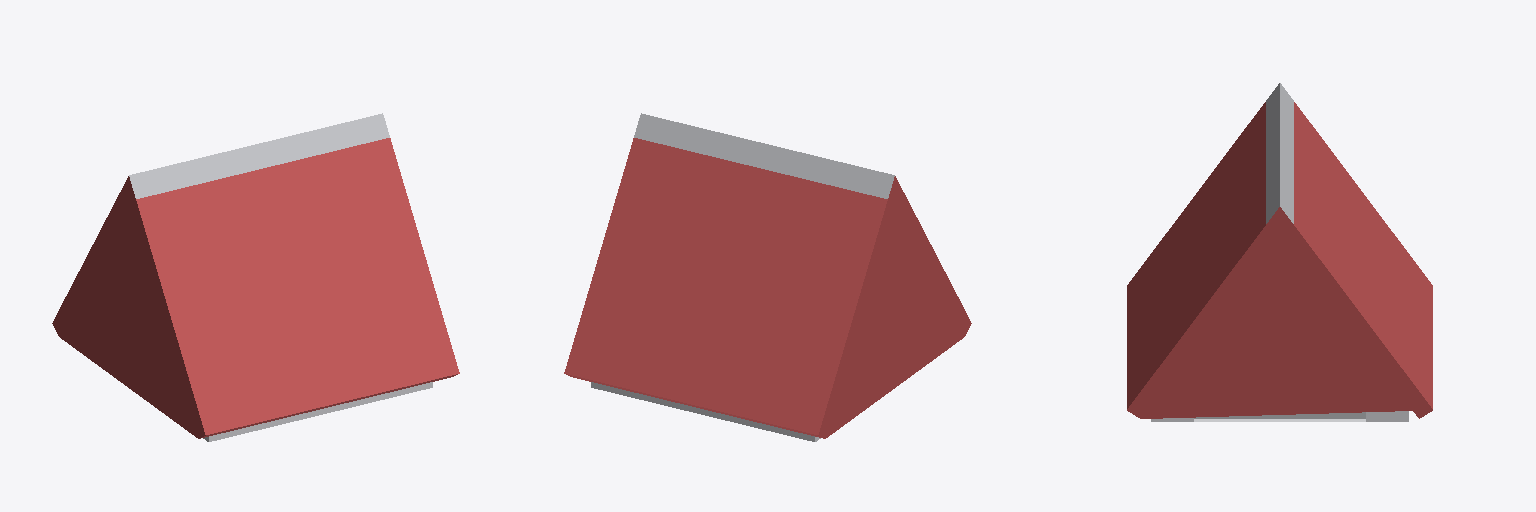
The model's file is Roof_Straight_Red_01.obj.
The picture shows the model from 3 angles: view 1: azimuth 30°, elevation 25°; view 2: azimuth 150°, elevation 25°; view 3: azimuth 270°, elevation 25°; orthographic projection.
Visible parts, largest first — view 1: Mesh1 Roof_Straight_Red Model; view 2: Mesh1 Roof_Straight_Red Model; view 3: Mesh1 Roof_Straight_Red Model.
Part boxes in pixels (left/top/right/bottom): Mesh1 Roof_Straight_Red Model: left=52, top=113, right=459, bottom=441; Mesh1 Roof_Straight_Red Model: left=564, top=113, right=971, bottom=441; Mesh1 Roof_Straight_Red Model: left=1127, top=83, right=1432, bottom=421.
Bounding box in the file's own units: 3.4 × 2.85 × 3.56.